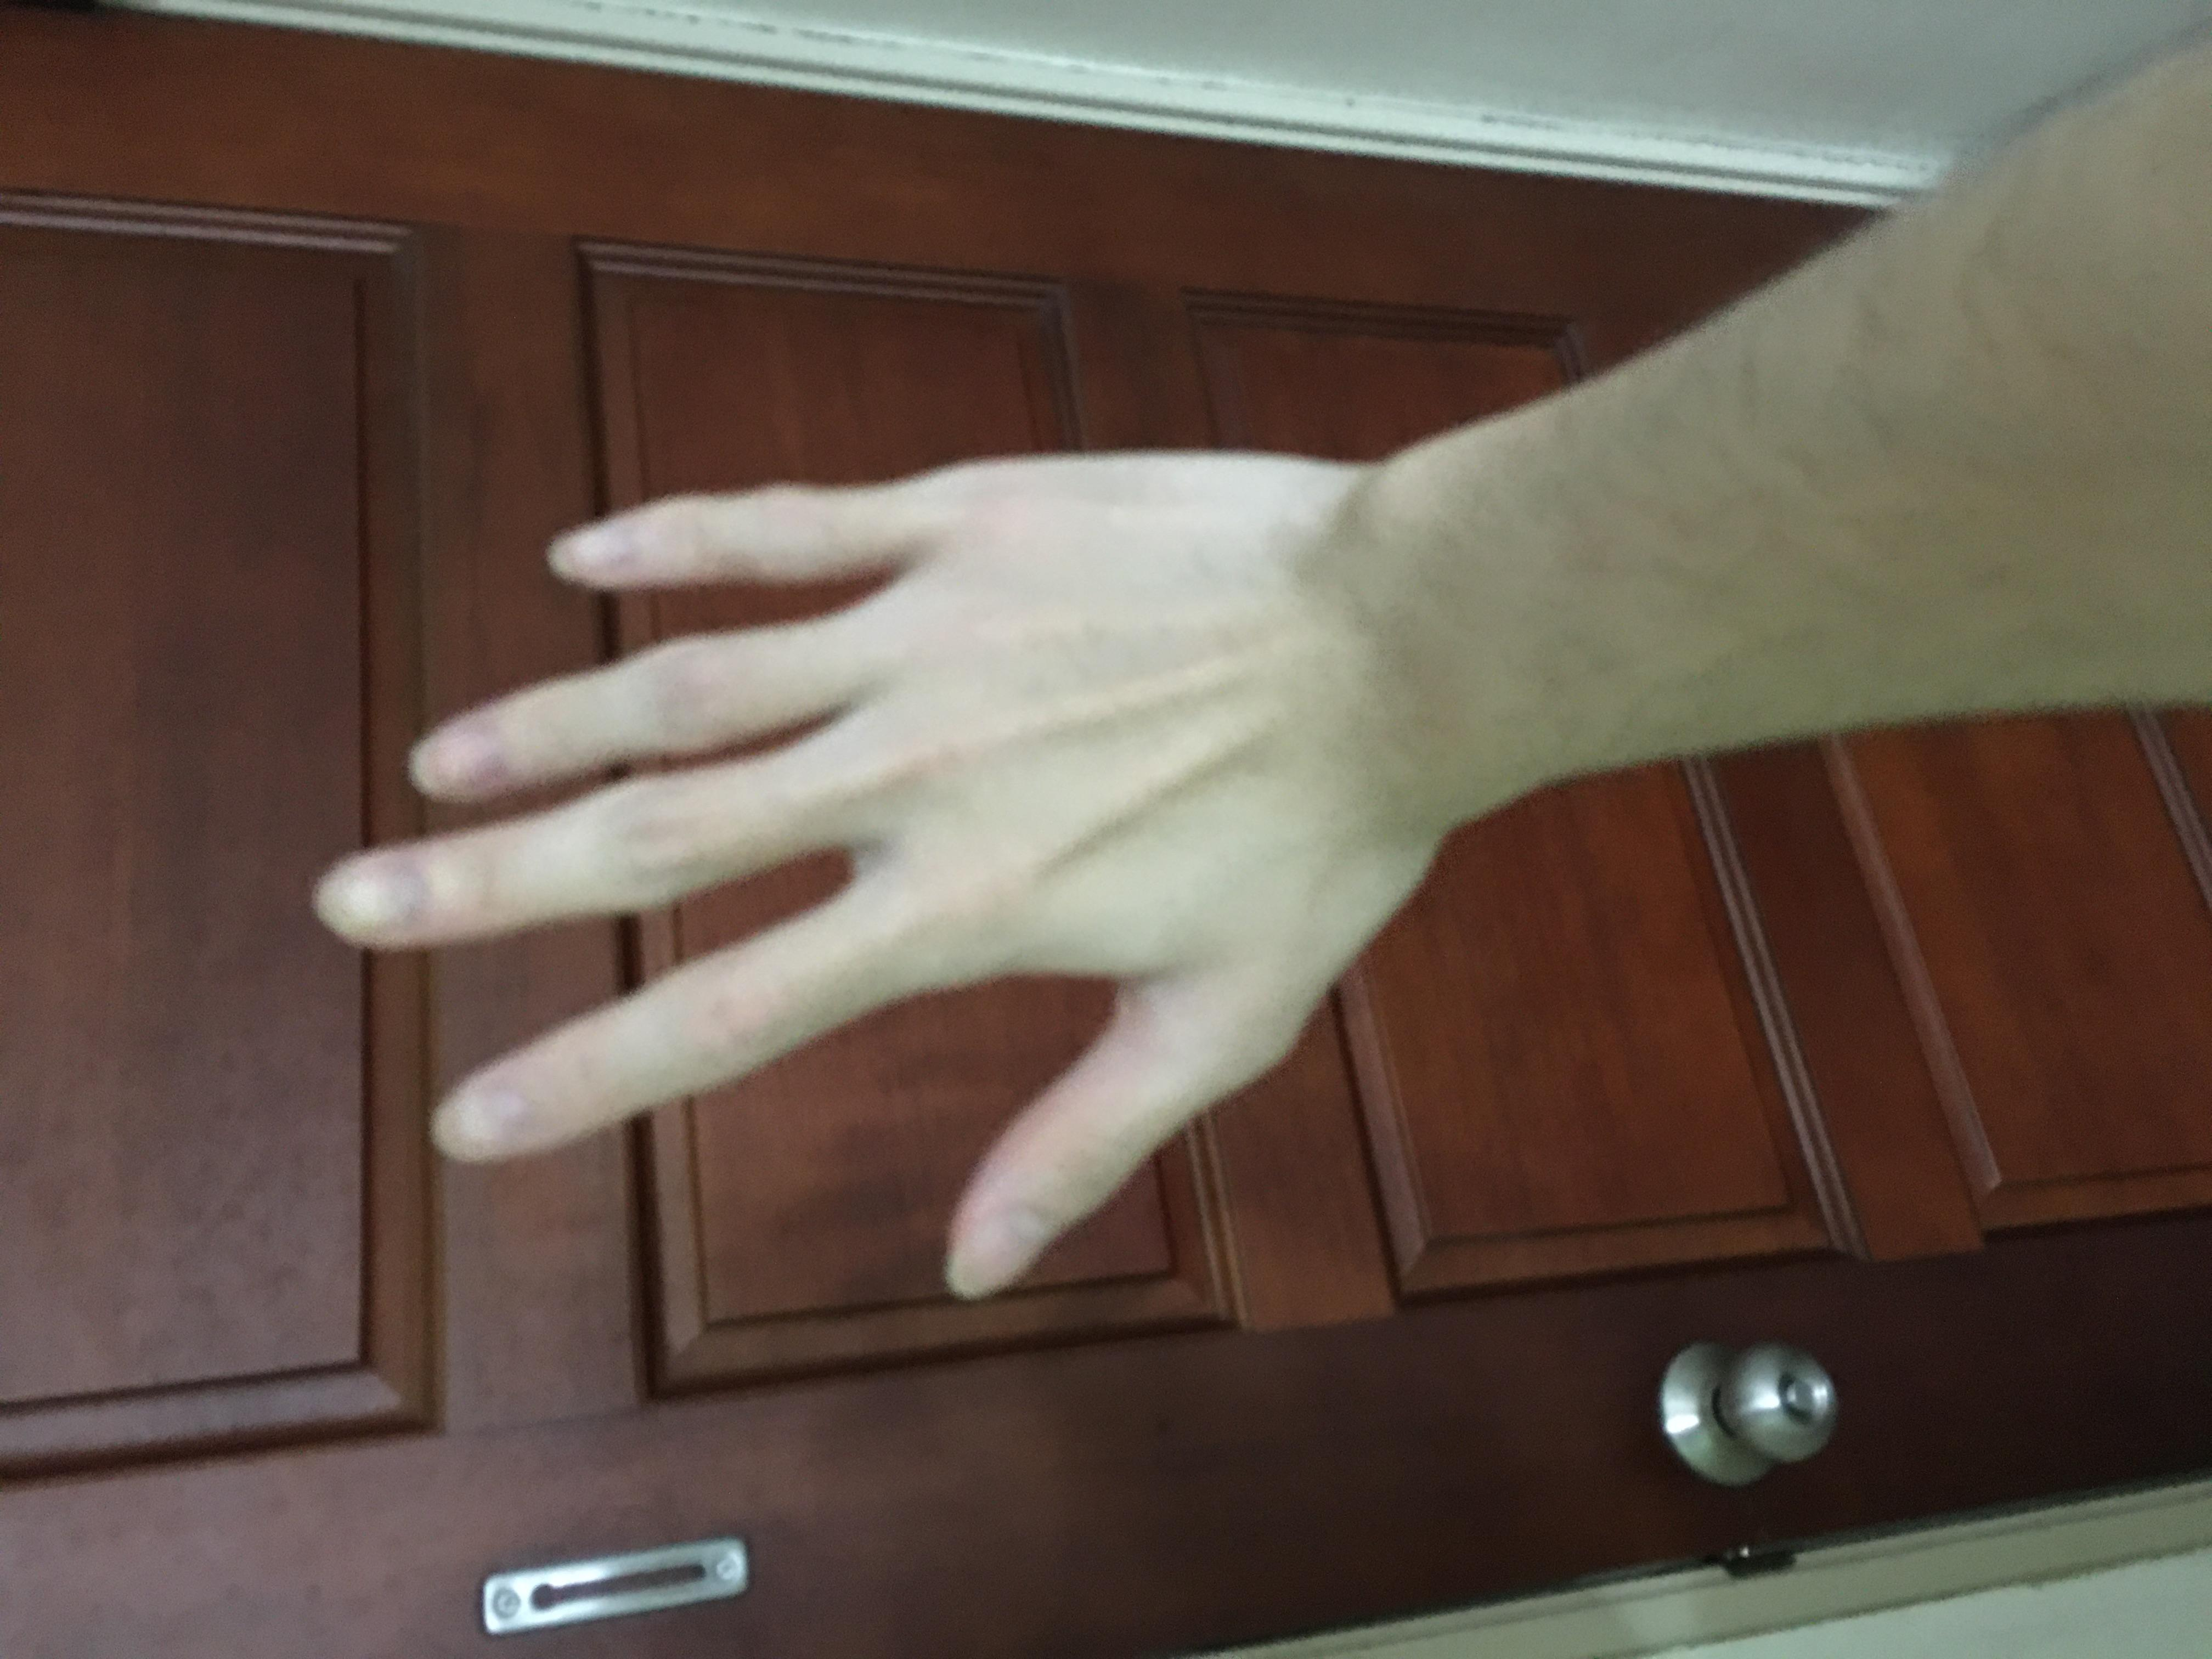hand: (470, 220, 1625, 1060)
